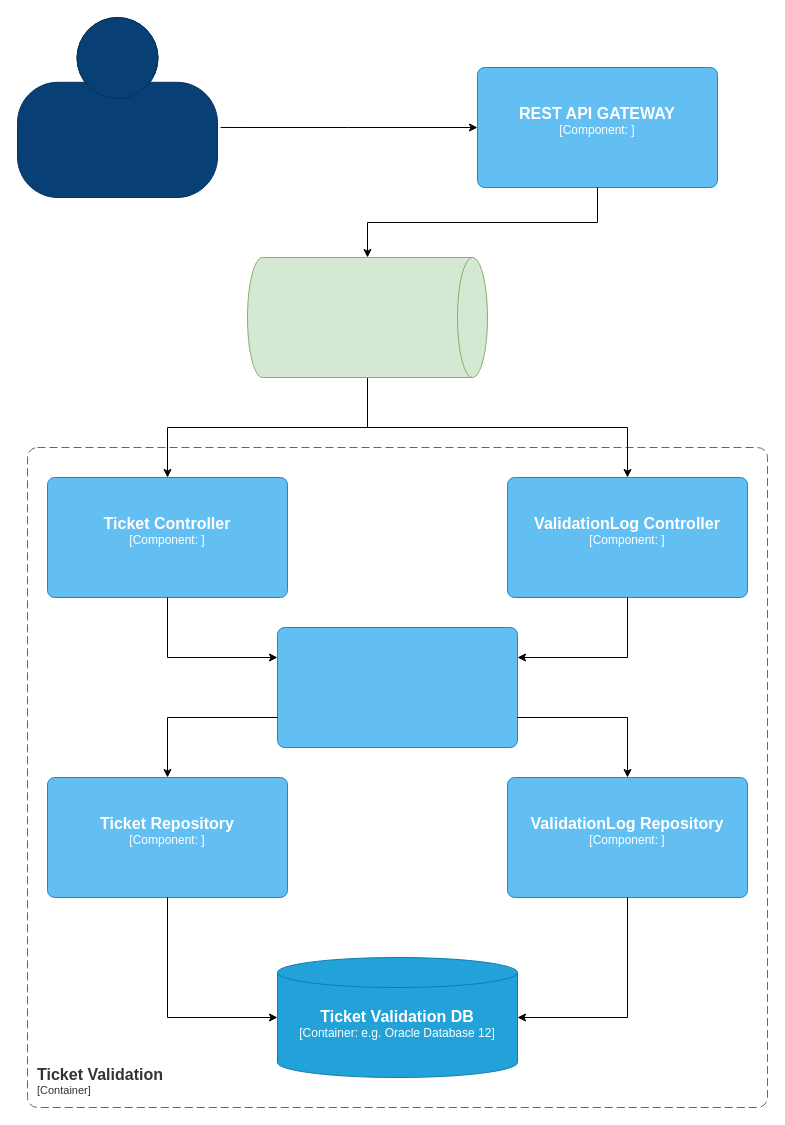
Some shapes in this 785 by 1125 pixel diagram are drawn without their labels. The centre of each missing label's shape, as x and y in pixels:
"Administrador [Person]" goes at pixel 117 107.
"Edge Computing [Container: Container]" goes at pixel 367 317.
"Ticket Validation Services [Component: ]" goes at pixel 397 687.
